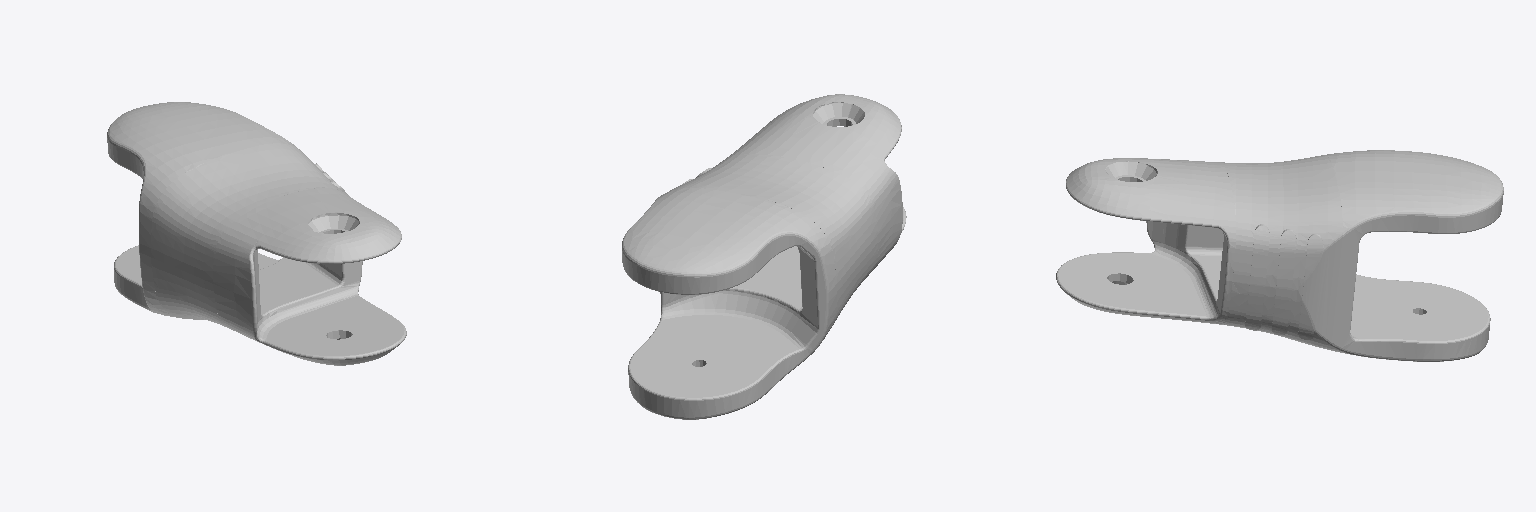
The model's file is index_finger_proximal.obj.
3 renders of one model, left to right at view 1: azimuth 30°, elevation 25°; view 2: azimuth 150°, elevation 25°; view 3: azimuth 270°, elevation 25°, orthographic.
Parts seen in each view (by area): view 1: Index_Proximal_Index_Proximal.001; view 2: Index_Proximal_Index_Proximal.001; view 3: Index_Proximal_Index_Proximal.001.
Part boxes in pixels (bbox=[...]): Index_Proximal_Index_Proximal.001: bbox=[107, 102, 406, 365]; Index_Proximal_Index_Proximal.001: bbox=[622, 94, 906, 419]; Index_Proximal_Index_Proximal.001: bbox=[1056, 150, 1503, 361].
Size of the model in its own units: 0.0233 by 0.022 by 0.0509.